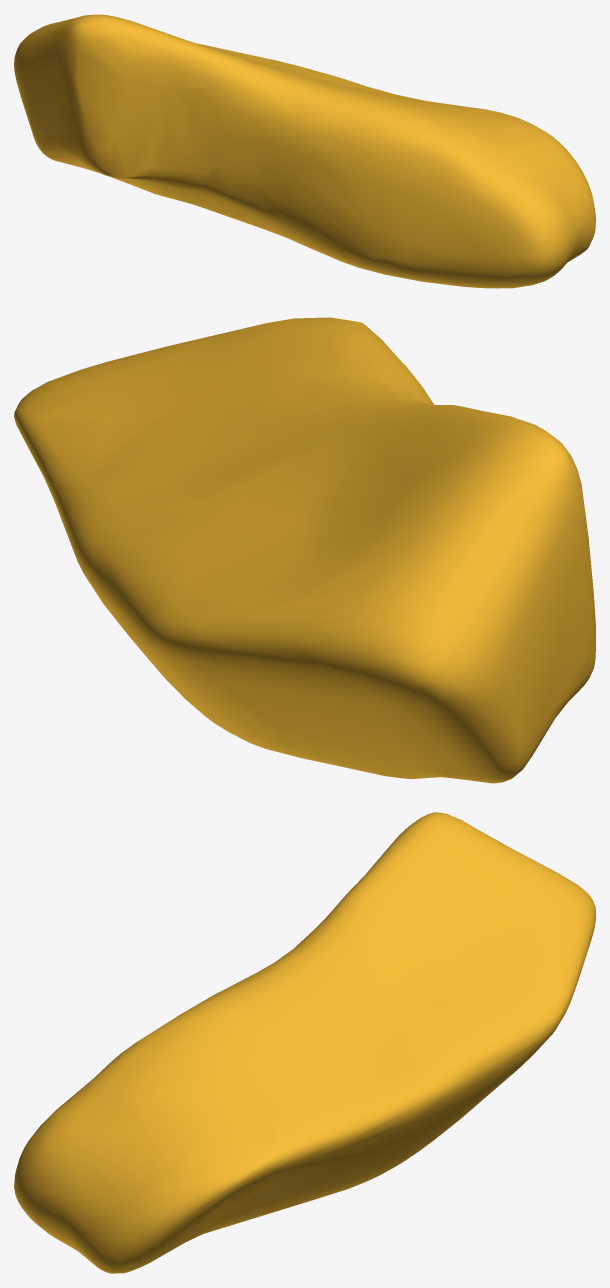
Rendered from nervoso-posterior-quadrangular-lobule-l.glb.
The picture shows the model from 3 angles, top to bottom: view 1: azimuth 30°, elevation 25°; view 2: azimuth 150°, elevation 25°; view 3: azimuth 270°, elevation 25°; orthographic projection. The views are drawn at different scales.
Parts seen in each view (by area): view 1: Posterior quadrangular lobule.l; view 2: Posterior quadrangular lobule.l; view 3: Posterior quadrangular lobule.l.
Part boxes in pixels (x1,y1,x2,y2): Posterior quadrangular lobule.l: [14, 14, 595, 288]; Posterior quadrangular lobule.l: [14, 317, 595, 783]; Posterior quadrangular lobule.l: [14, 812, 595, 1273].
Bounding box in the file's own units: 0.0423 × 0.0233 × 0.0451.
